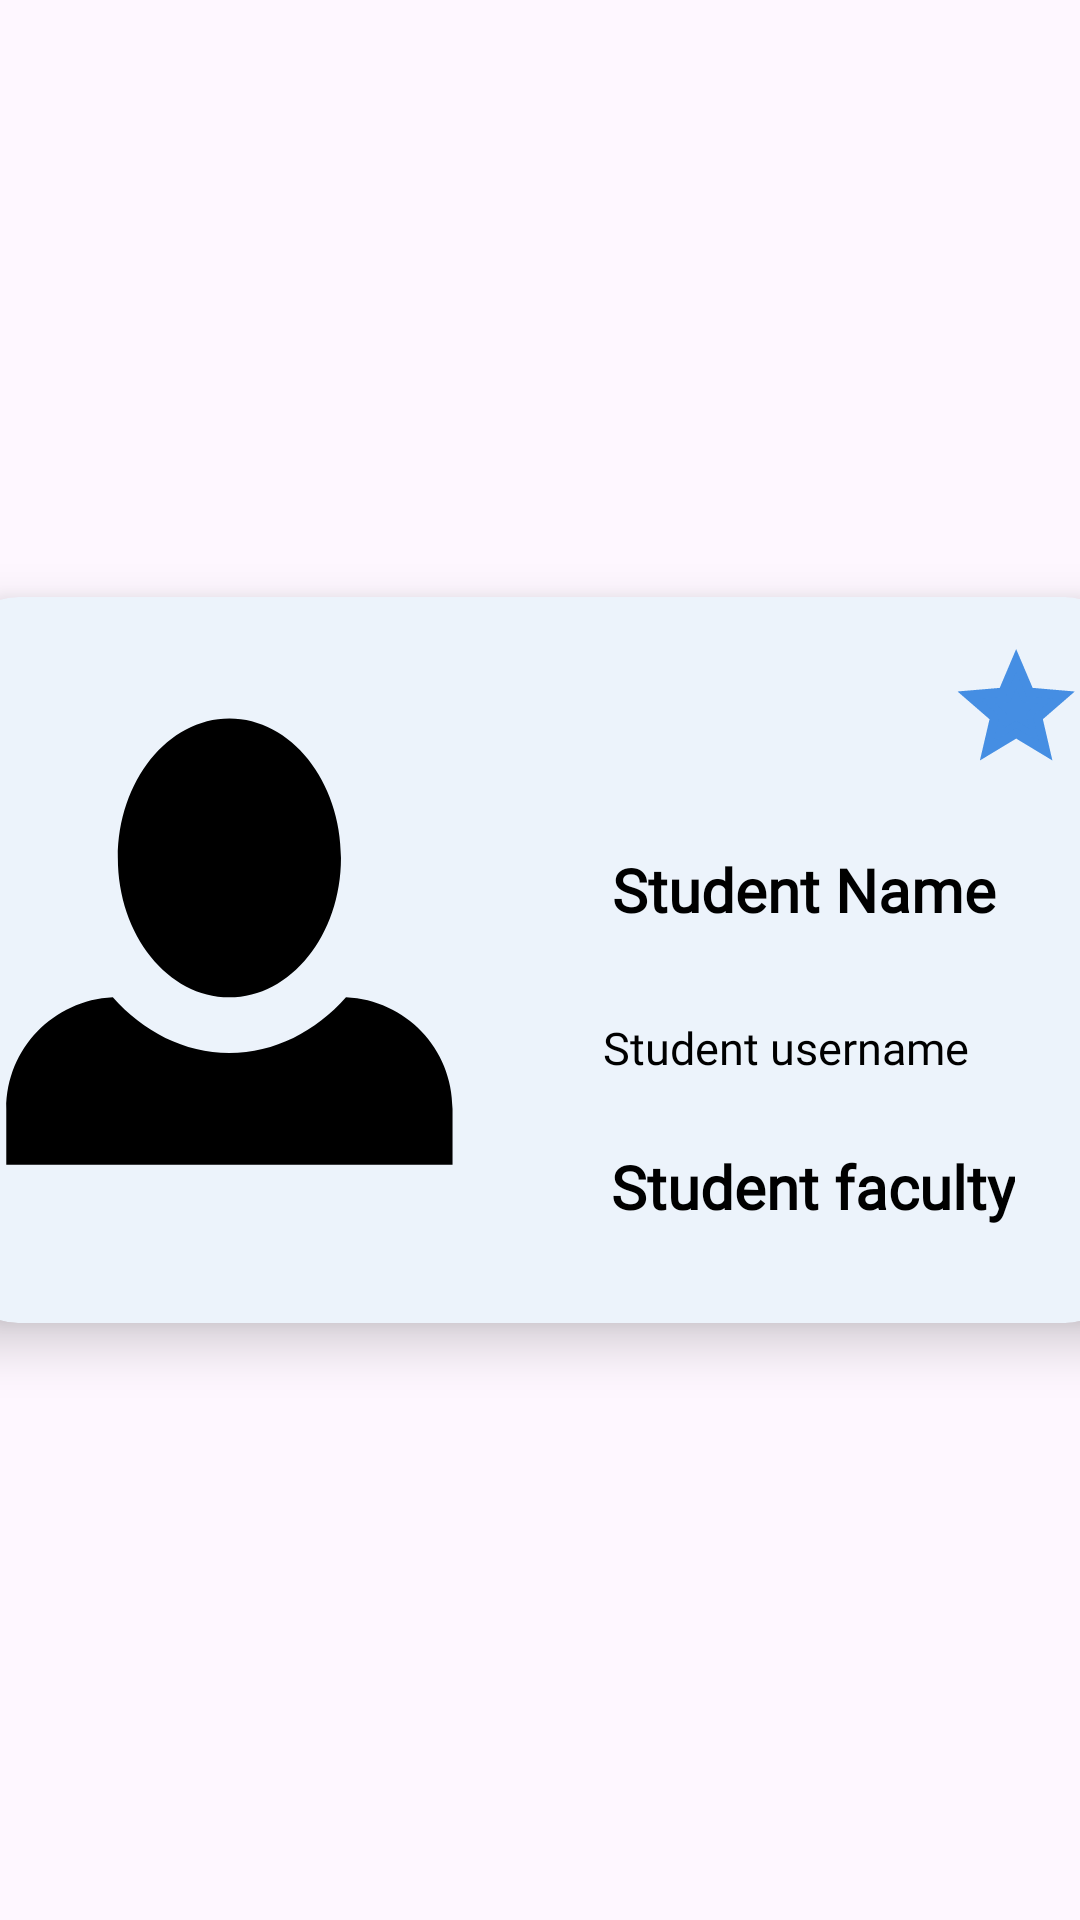

Screen size 1080 × 1920. Icon name, then its box in pixels as [left=x1, top=y1, right=x2, bottom=y2]:
favorites added: [left=958, top=649, right=1075, bottom=760]
